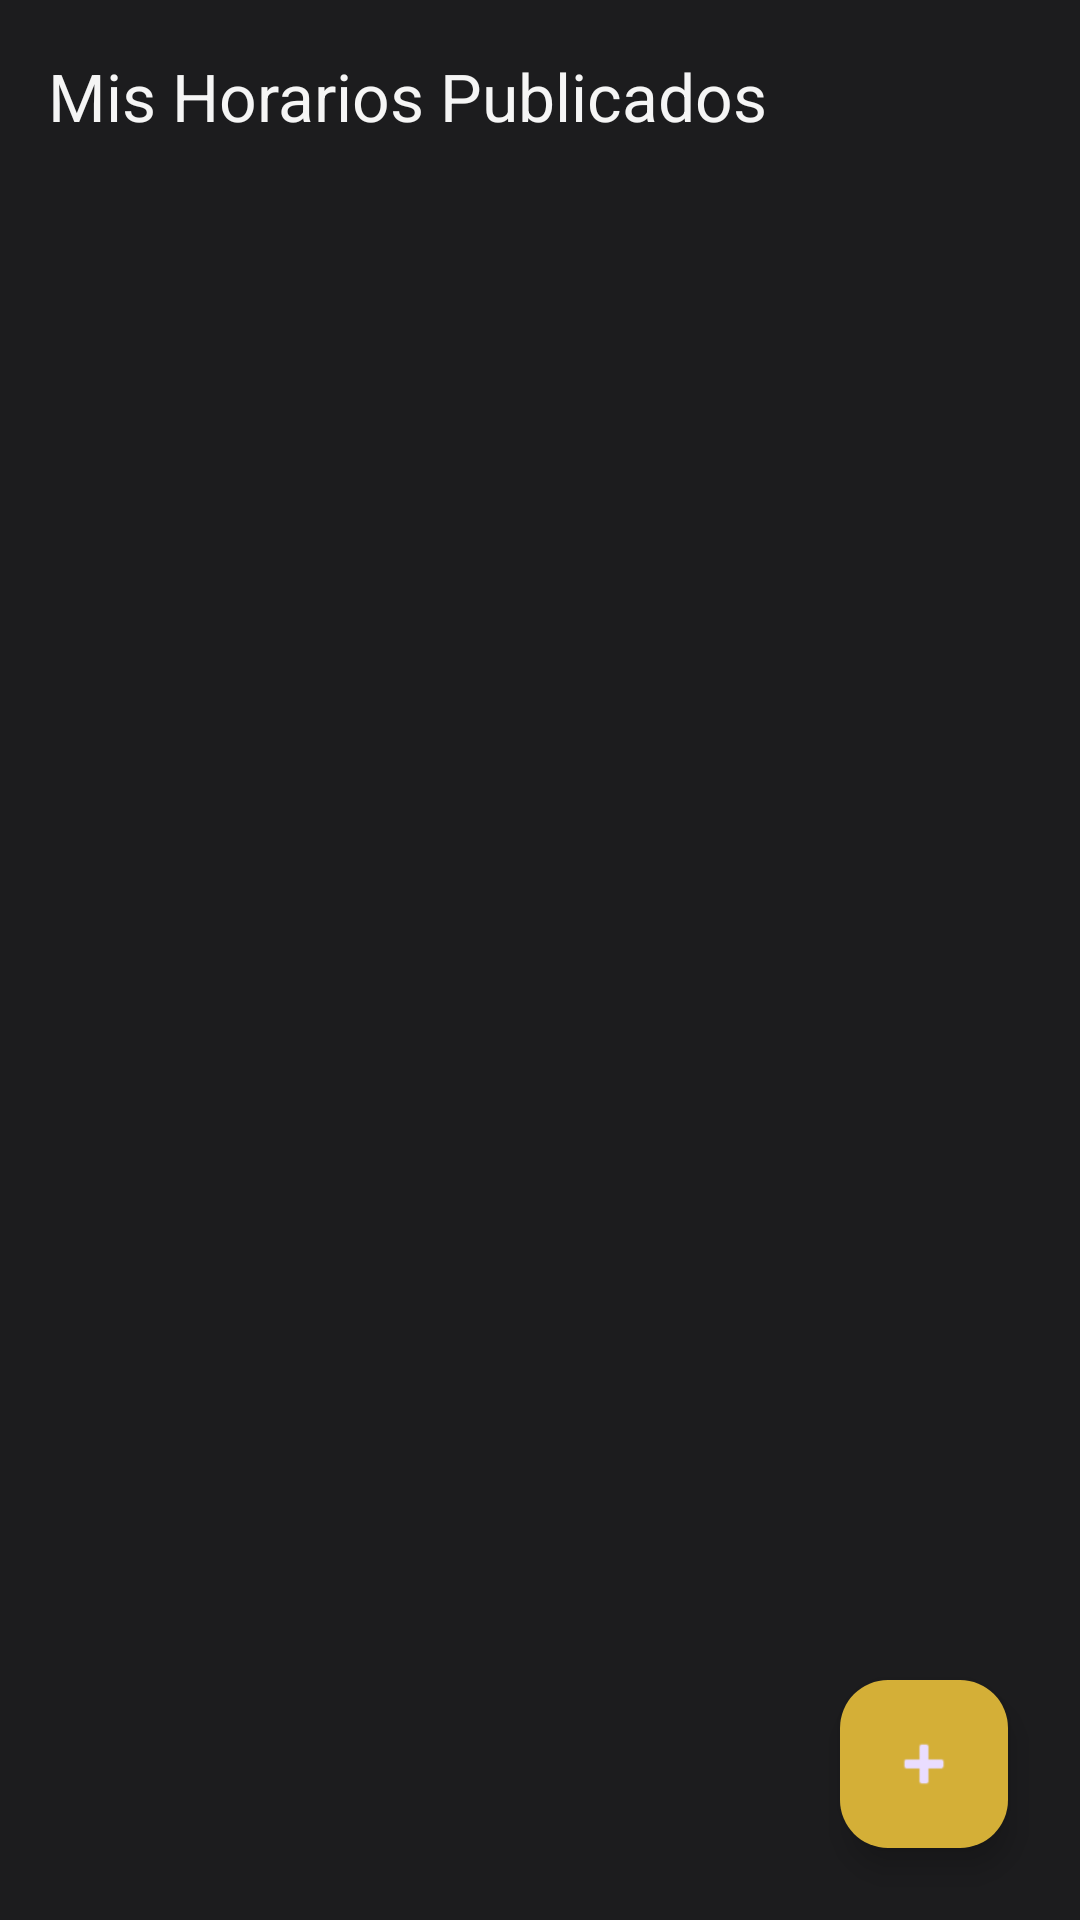

Icons on this 1080w x 1920h Android screen, each with the point to tap as (x=x, y=y):
Publicar nuevo horario: (x=924, y=1764)
